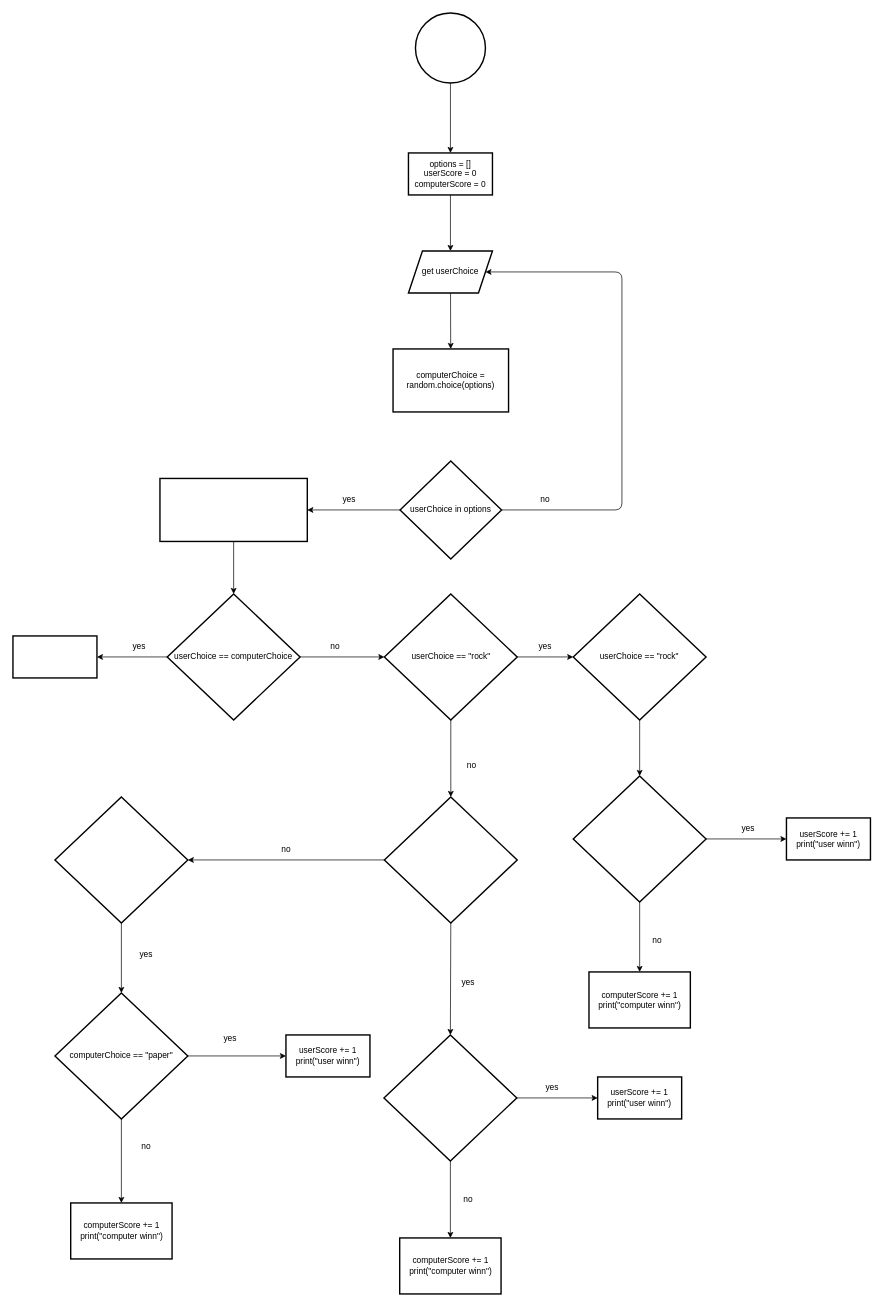
The diagram is 883 pixels wide and 1306 high, and some of its shapes have lost their labels. The box of each missing label's shape, as (x1, y1, x2, y2) in pixels:
computerChoice == "rock": (383, 1034, 517, 1161)
computerChoice == "scissors": (572, 775, 706, 902)
print("no winners"): (12, 635, 97, 678)
print(userChoice, computerChoice): (159, 477, 308, 542)
start: (414, 12, 486, 83)
userChoice == "paper": (383, 796, 518, 923)
userChoice == "scissors": (54, 796, 188, 923)
